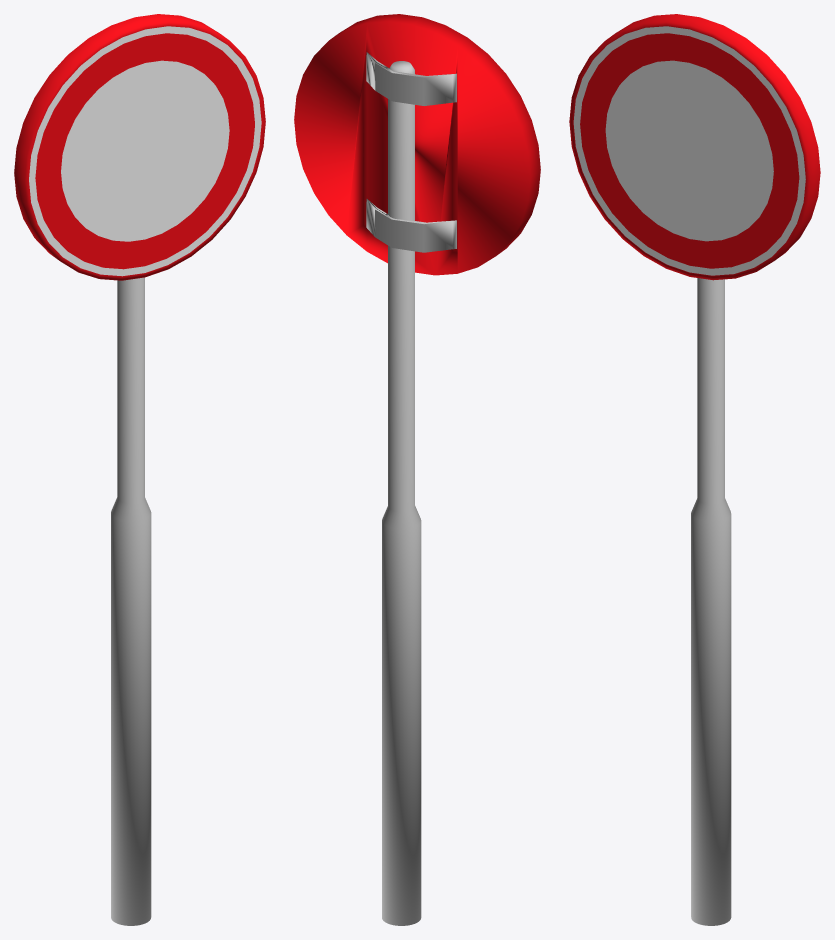
Rendered from red_bike_sign.fbx.
3 renders of one model, left to right at view 1: azimuth 30°, elevation 25°; view 2: azimuth 150°, elevation 25°; view 3: azimuth 330°, elevation 25°, orthographic. The views are drawn at different scales.
Parts seen in each view (by area): view 1: red sign.001; view 2: red sign.001; view 3: red sign.001.
Part boxes in pixels (box(x1,y1,x2,y2)): red sign.001: box(14, 14, 265, 925); red sign.001: box(294, 14, 540, 925); red sign.001: box(569, 14, 820, 925).
Bounding box in the file's own units: 200 × 718 × 40.
